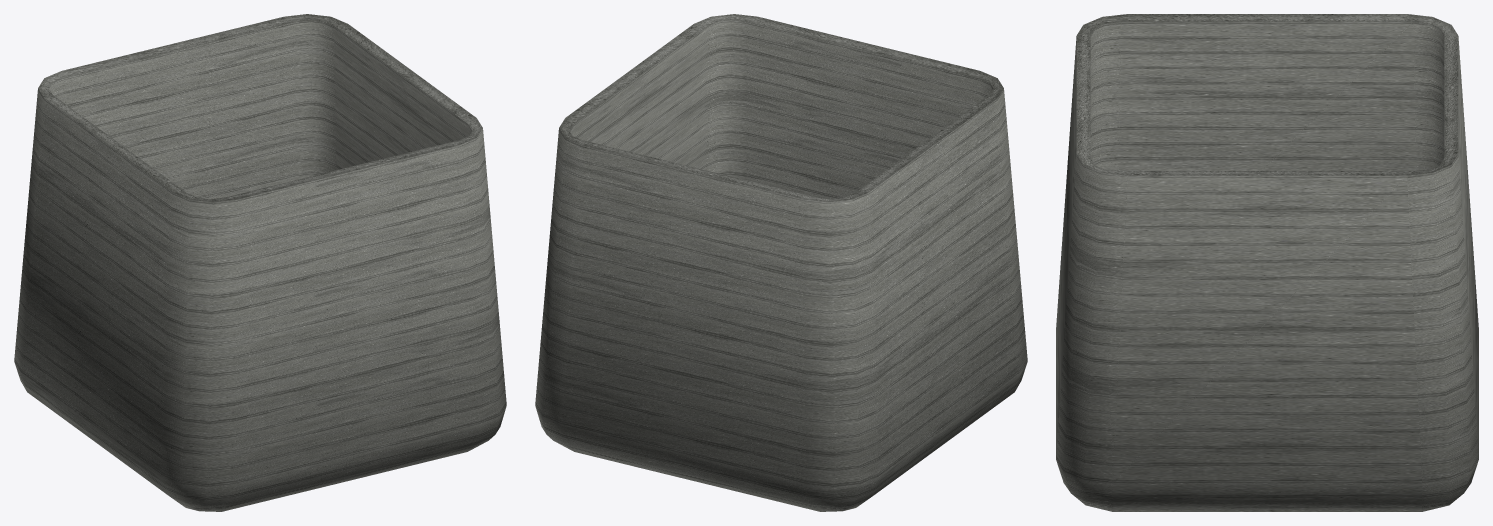
3 renders of one model, left to right at view 1: azimuth 30°, elevation 25°; view 2: azimuth 150°, elevation 25°; view 3: azimuth 270°, elevation 25°, orthographic. The views are drawn at different scales.
Parts seen in each view (by area): view 1: Cube; view 2: Cube; view 3: Cube.
Boxes of the visible parts, x1,y1,x2,y2 form: Cube: (14, 14, 506, 511); Cube: (535, 14, 1027, 511); Cube: (1056, 14, 1478, 511).
Size of the model in its own units: 2.21 by 2 by 2.21.
Materials: 1 (1 with a texture image).
